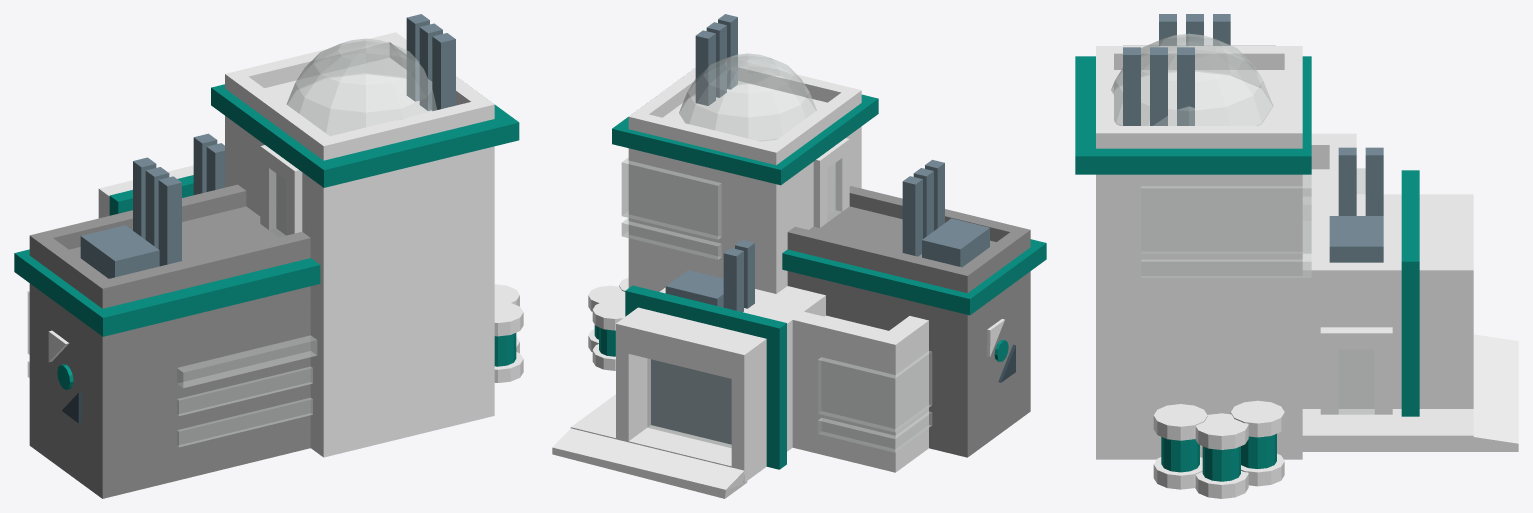
3 views of the same model, side by side, from view 1: azimuth 30°, elevation 25°; view 2: azimuth 150°, elevation 25°; view 3: azimuth 270°, elevation 25° (orthographic). The views are drawn at different scales.
Parts seen in each view (by area): view 1: group1402583281, group614560715, group1218104621, group1823136938, group343389326, group1997347060, group1718686358, group1508717350, group2085792972, group1876434331, group294133251, group1040198484 (+18 smaller); view 2: group1402583281, group614560715, group1112950535, group1218104621, group649567342, group1639621080, group1756934309, group1709219638, group850026794, group734234387, group2003159481, group905428687 (+33 smaller); view 3: group1402583281, group1009672793, group1709219638, group1218104621, group1414072689, group804107908, group1196670224, group1978662358, group1756934309, group465900982, group568287060, group351739945 (+22 smaller).
Boxes of the visible parts, <box> form: group1402583281: <box>225,58,494,457</box>; group614560715: <box>29,206,310,498</box>; group1218104621: <box>287,38,436,135</box>; group1823136938: <box>92,258,320,336</box>; group343389326: <box>94,232,310,304</box>; group1997347060: <box>331,119,502,183</box>; group1718686358: <box>225,32,404,94</box>; group1508717350: <box>330,102,479,156</box>; group2085792972: <box>260,145,302,237</box>; group1876434331: <box>221,92,340,187</box>; group294133251: <box>29,184,246,256</box>; group1040198484: <box>177,335,316,387</box>; group1402583281: <box>628,81,861,293</box>; group614560715: <box>787,206,1030,457</box>; group1112950535: <box>792,315,928,472</box>; group1218104621: <box>679,53,816,141</box>; group649567342: <box>818,351,931,432</box>; group1639621080: <box>647,358,731,447</box>; group1756934309: <box>552,428,747,498</box>; group1709219638: <box>621,157,721,239</box>; group850026794: <box>651,359,731,444</box>; group734234387: <box>628,310,753,378</box>; group2003159481: <box>731,336,766,469</box>; group905428687: <box>782,249,978,315</box>; group1402583281: <box>1096,70,1302,459</box>; group1009672793: <box>1302,194,1401,408</box>; group1709219638: <box>1141,174,1311,253</box>; group1218104621: <box>1111,33,1272,125</box>; group1414072689: <box>1419,262,1473,408</box>; group804107908: <box>1302,409,1473,451</box>; group1196670224: <box>1320,327,1392,414</box>; group1978662358: <box>1075,147,1291,174</box>; group1756934309: <box>1464,334,1518,451</box>; group465900982: <box>1096,126,1284,148</box>; group568287060: <box>1195,413,1248,498</box>; group351739945: <box>1153,404,1207,489</box>.
Size of the model in its own units: 0.6321 by 0.4839 by 0.4929.
